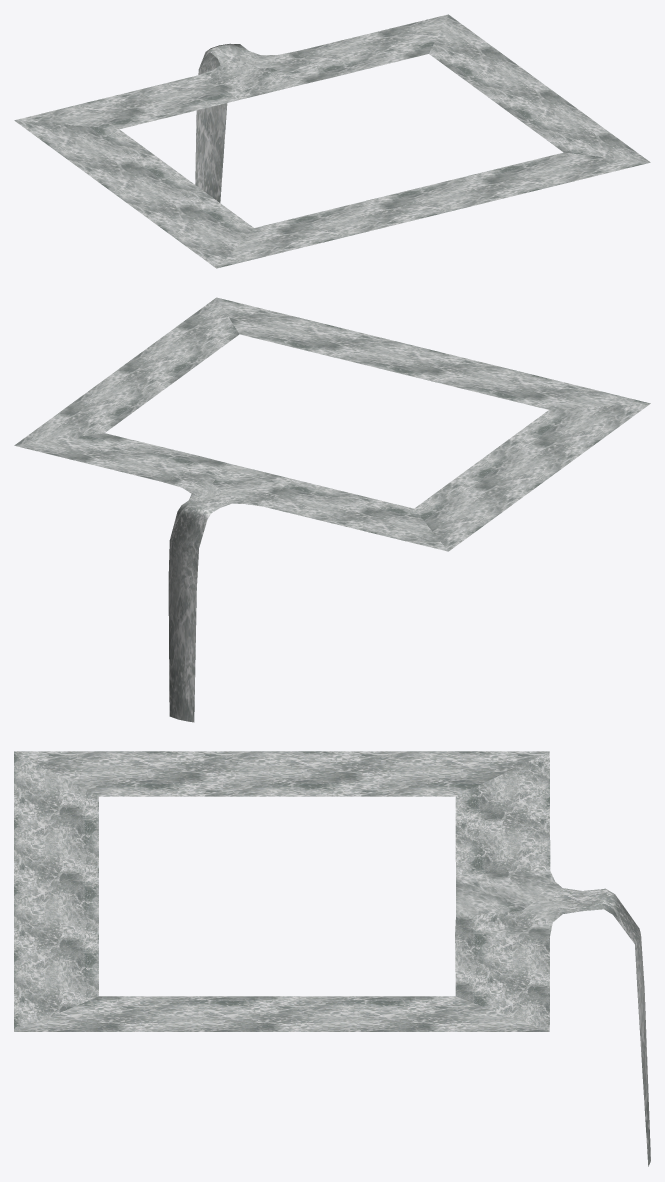
File: H_shuiqu002.fbx
3 views of the same model, one above another, from view 1: azimuth 30°, elevation 25°; view 2: azimuth 150°, elevation 25°; view 3: azimuth 270°, elevation 25° (orthographic). The views are drawn at different scales.
Parts seen in each view (by area): view 1: H_shuiqu002; view 2: H_shuiqu002; view 3: H_shuiqu002.
Part boxes in pixels (box(x1,y1,x2,y2)): H_shuiqu002: box(14, 14, 650, 268); H_shuiqu002: box(14, 297, 650, 722); H_shuiqu002: box(14, 751, 650, 1166).
Bounding box in the file's own units: 2576 × 1132 × 2472.
